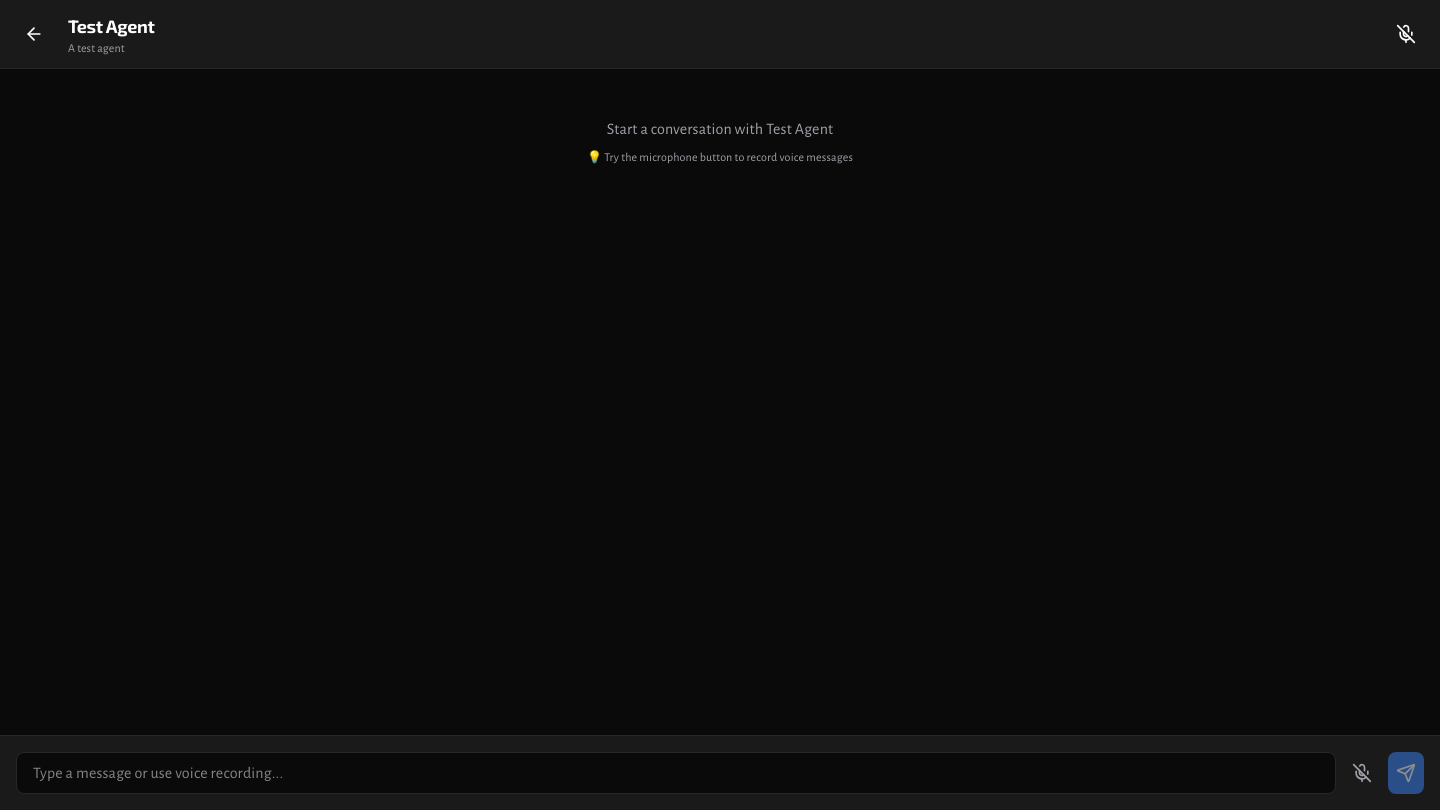
Test: EnhancedChatInterface › formats bold text correctly
This screenshot has width=1440, height=810.
In the text box with placeholder "Type a message or use voice recording...": (676, 773) [16,752,1336,794], type "Test message"
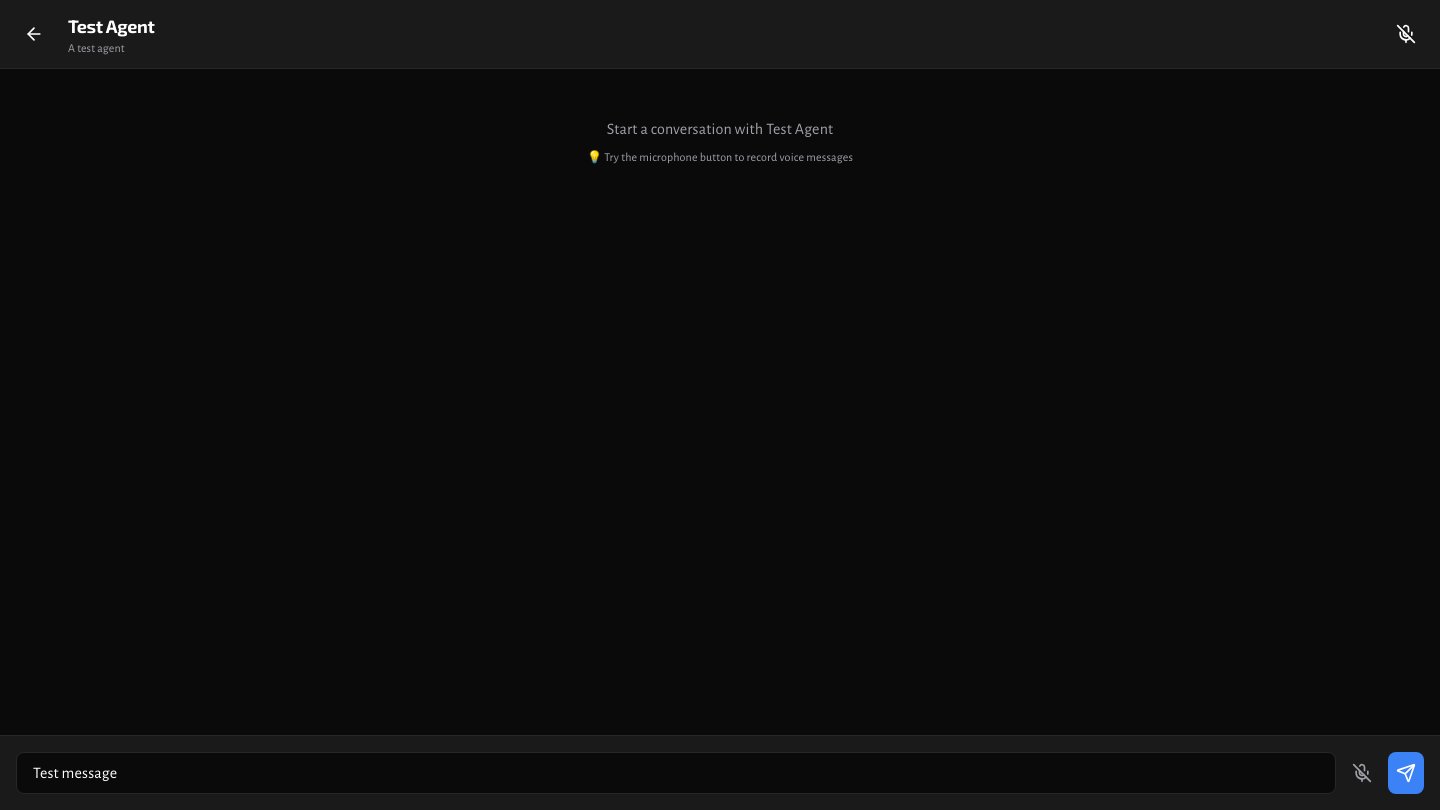
Click the button named "Send message": (1406, 773) [1388,752,1424,794]
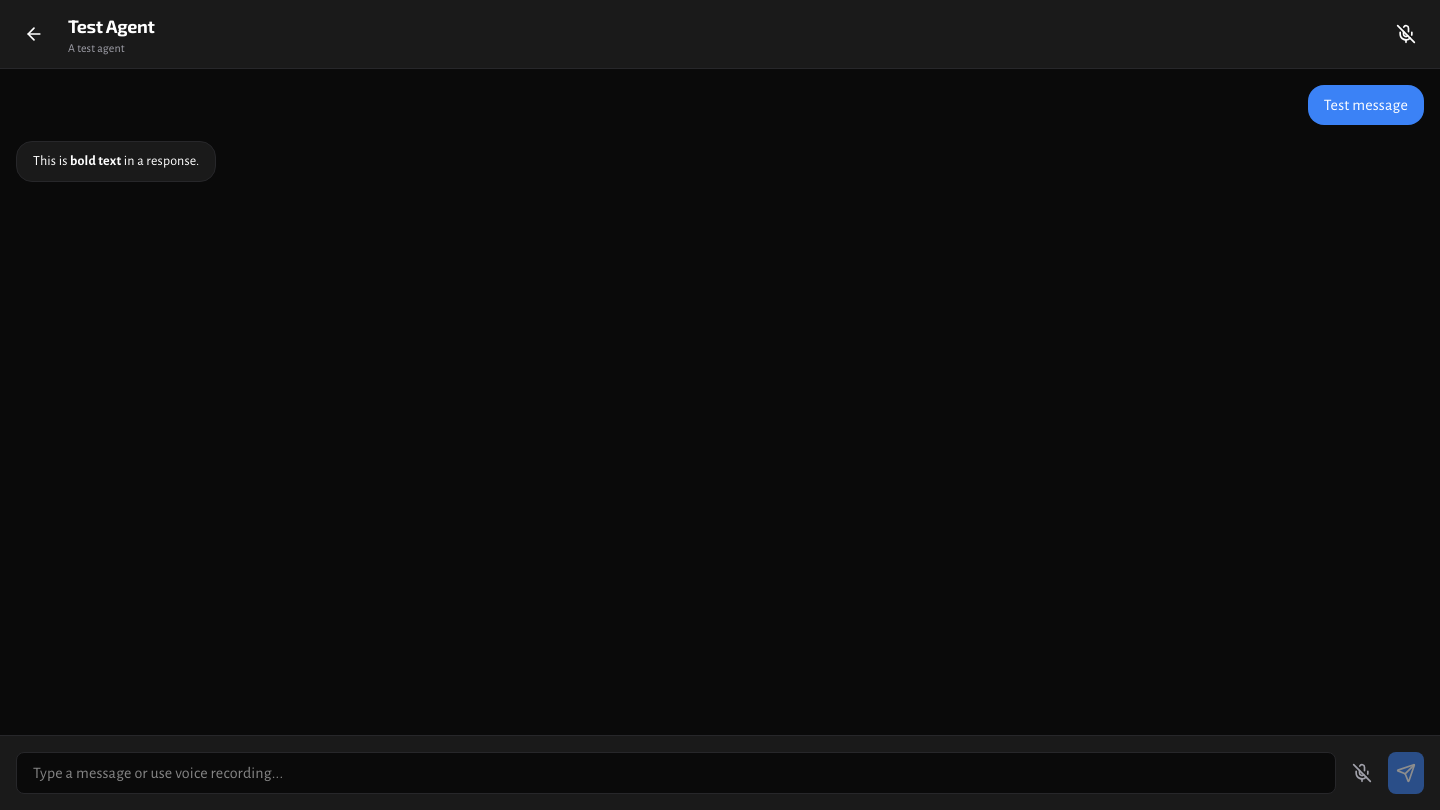
Now the text "bold text" is shown, box [70,154,121,168]
